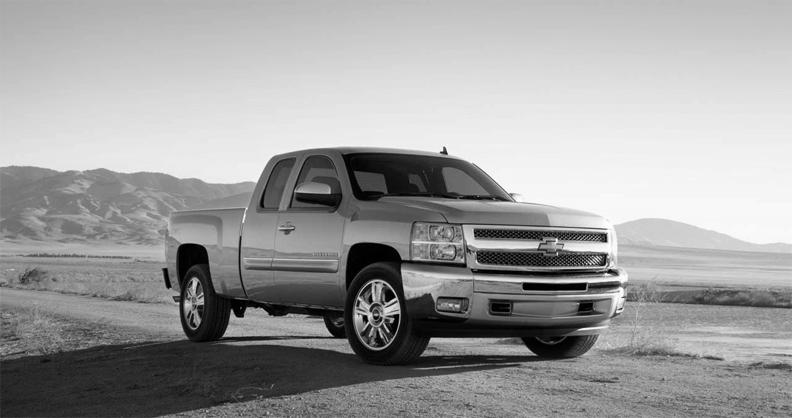car: (161, 145, 628, 369)
